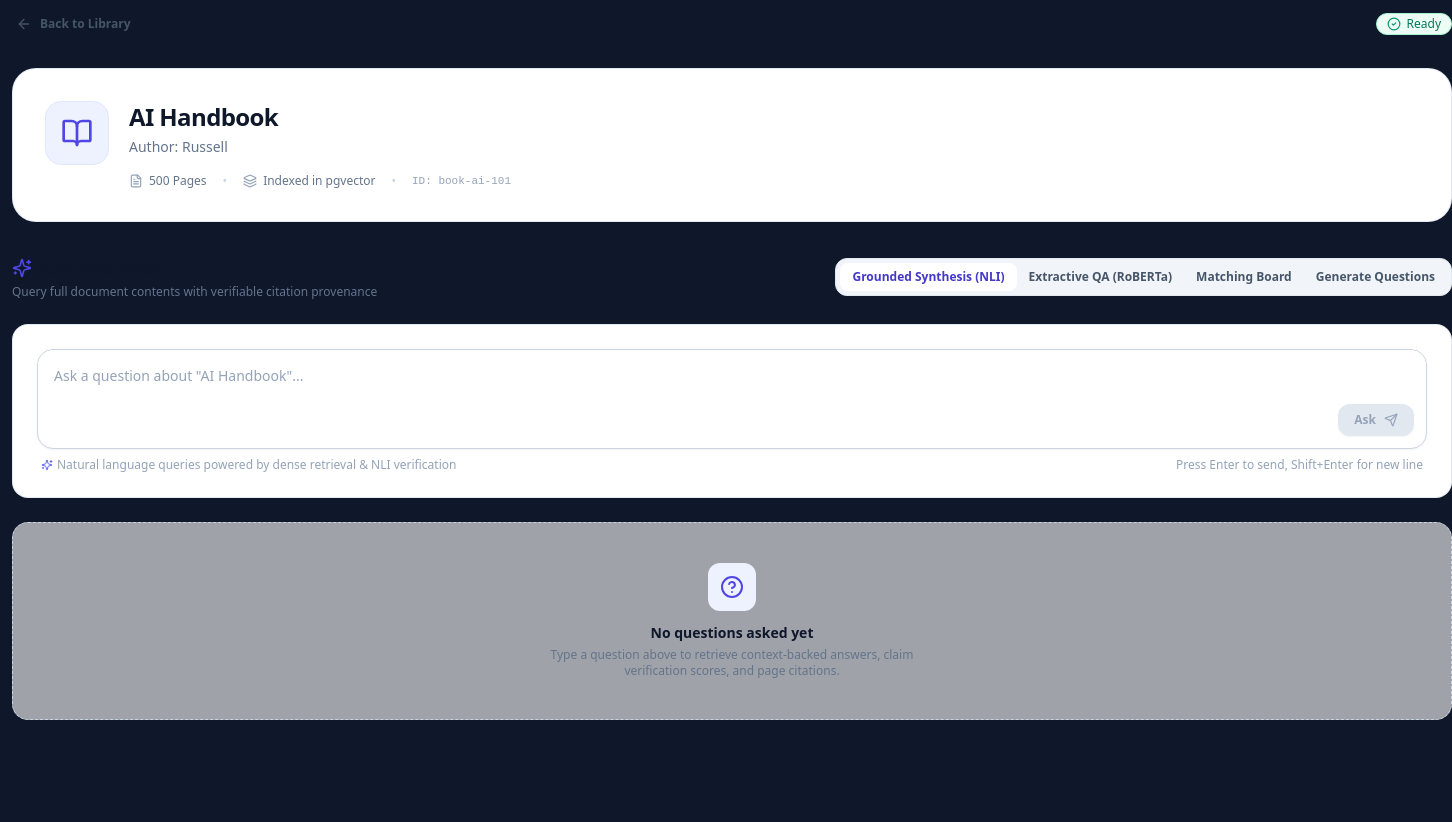
Scenario: Phase 18 — Matching Board & Retrieval Transparency Tests › 16. Standalone Matching Board handles API search error safely in BookDetail
Expected: the heading "AI Handbook" is shown, [129,100,278,133]
Switch to Matching Board mode
Click the button "Matching Board" at (1244, 277), box [1184,263,1304,291]
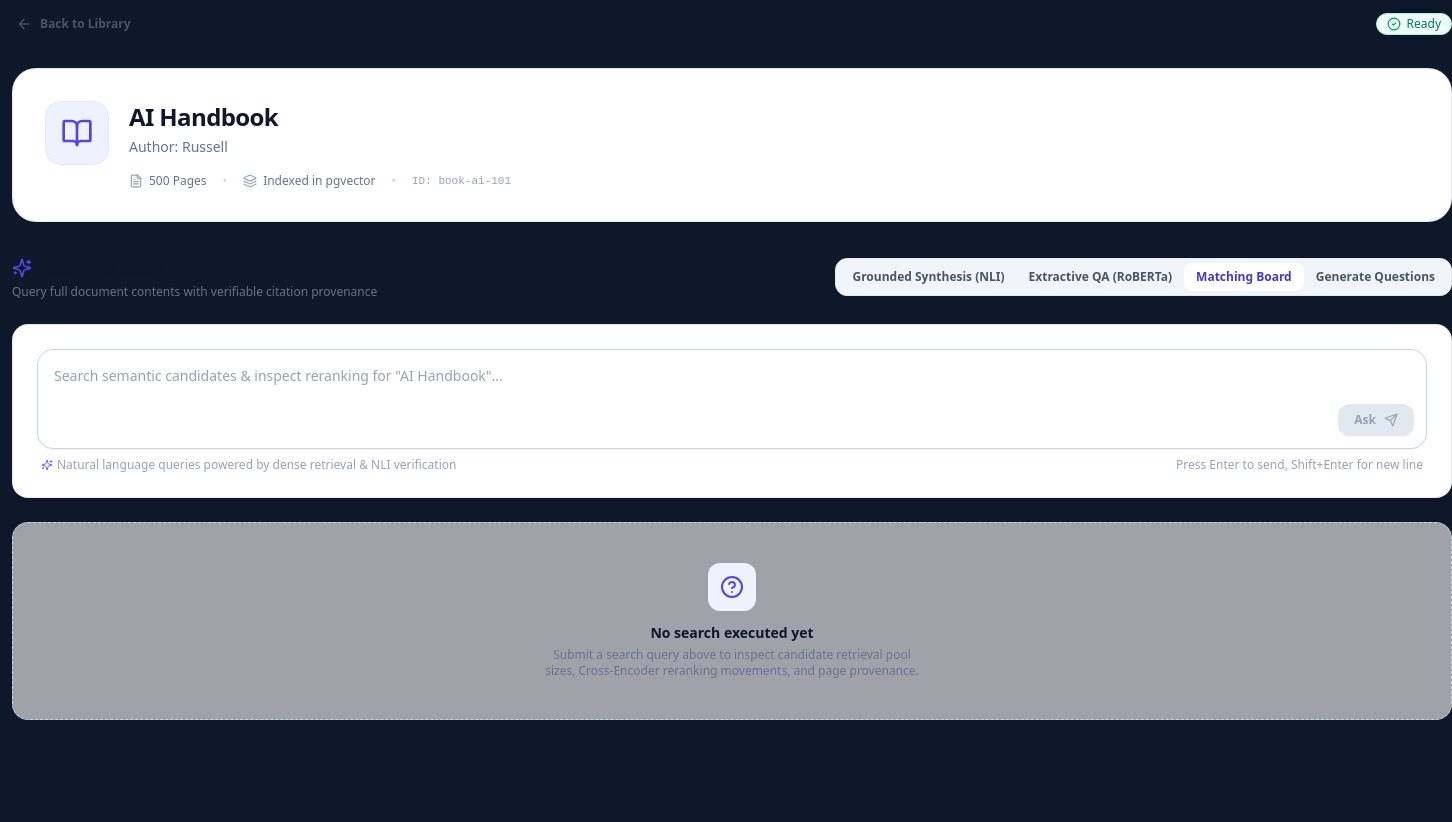
Now the text box with placeholder "Search semantic candidates" is shown
Submit a search query
Replace the text in the text box with placeholder "Search semantic candidates" with "quantum neural networks" at (732, 396), box [38,350,1426,442]
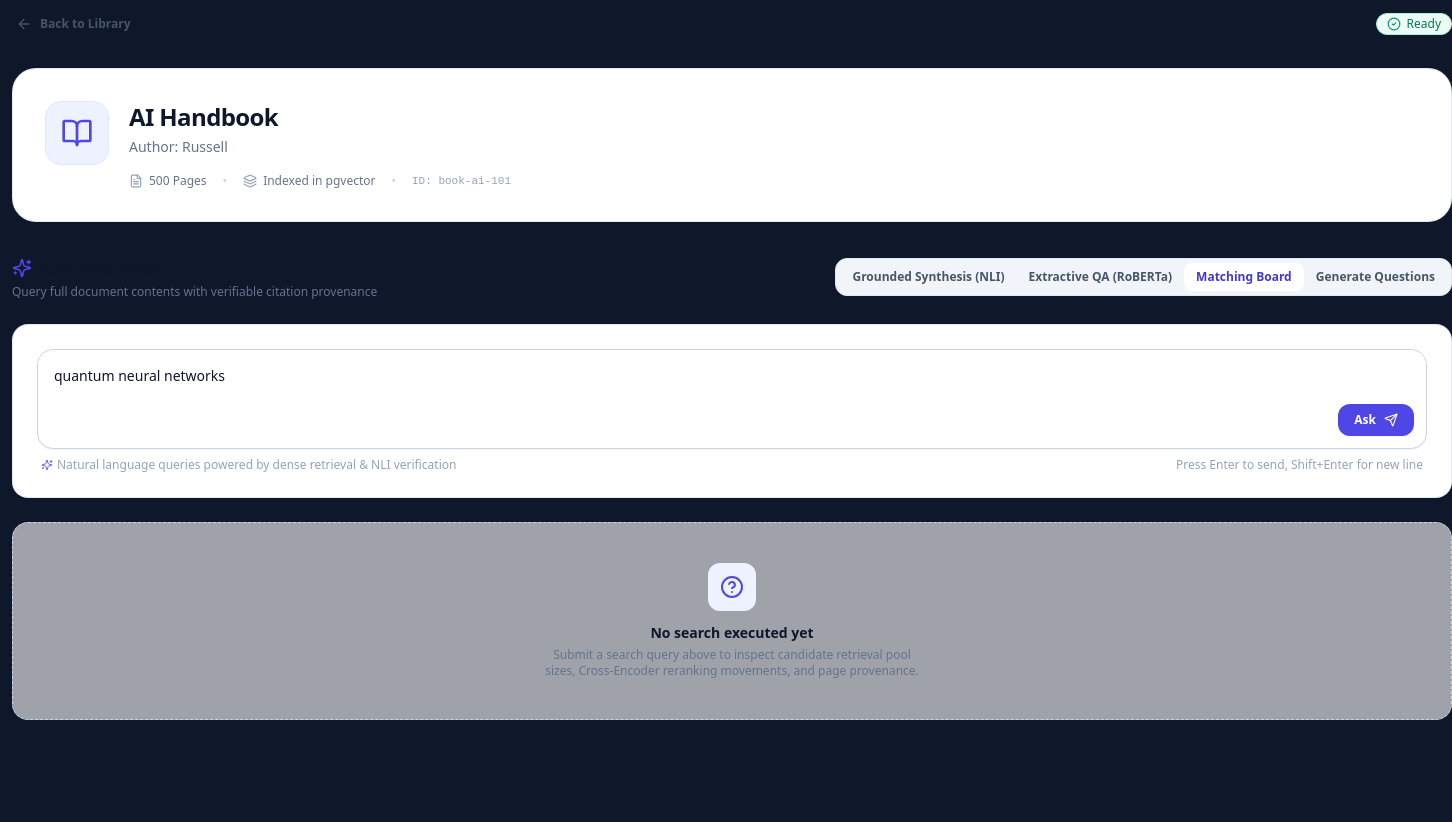
Now the button with aria-label "Ask Question" is enabled
Click the button with aria-label "Ask Question" at (1376, 420), box [1338,404,1414,436]
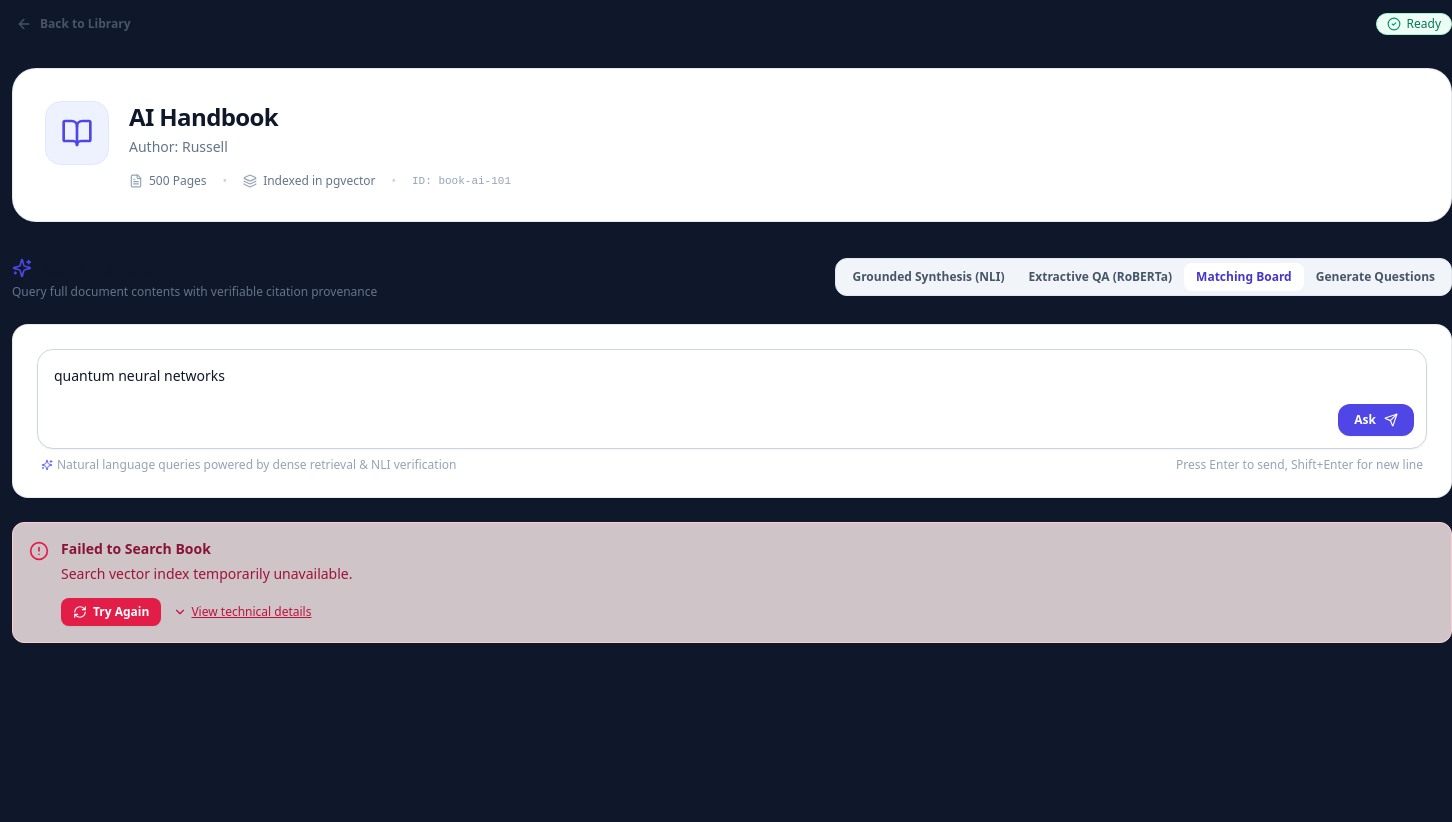
Now the heading "Failed to Search Book" is shown, box [61,539,211,559]
Now the text "Search vector index temporarily unavailable." is shown, box [61,564,352,583]
Expand technical details and verify request ID
Click the button "View technical details" at (242, 612), box [173,604,311,620]
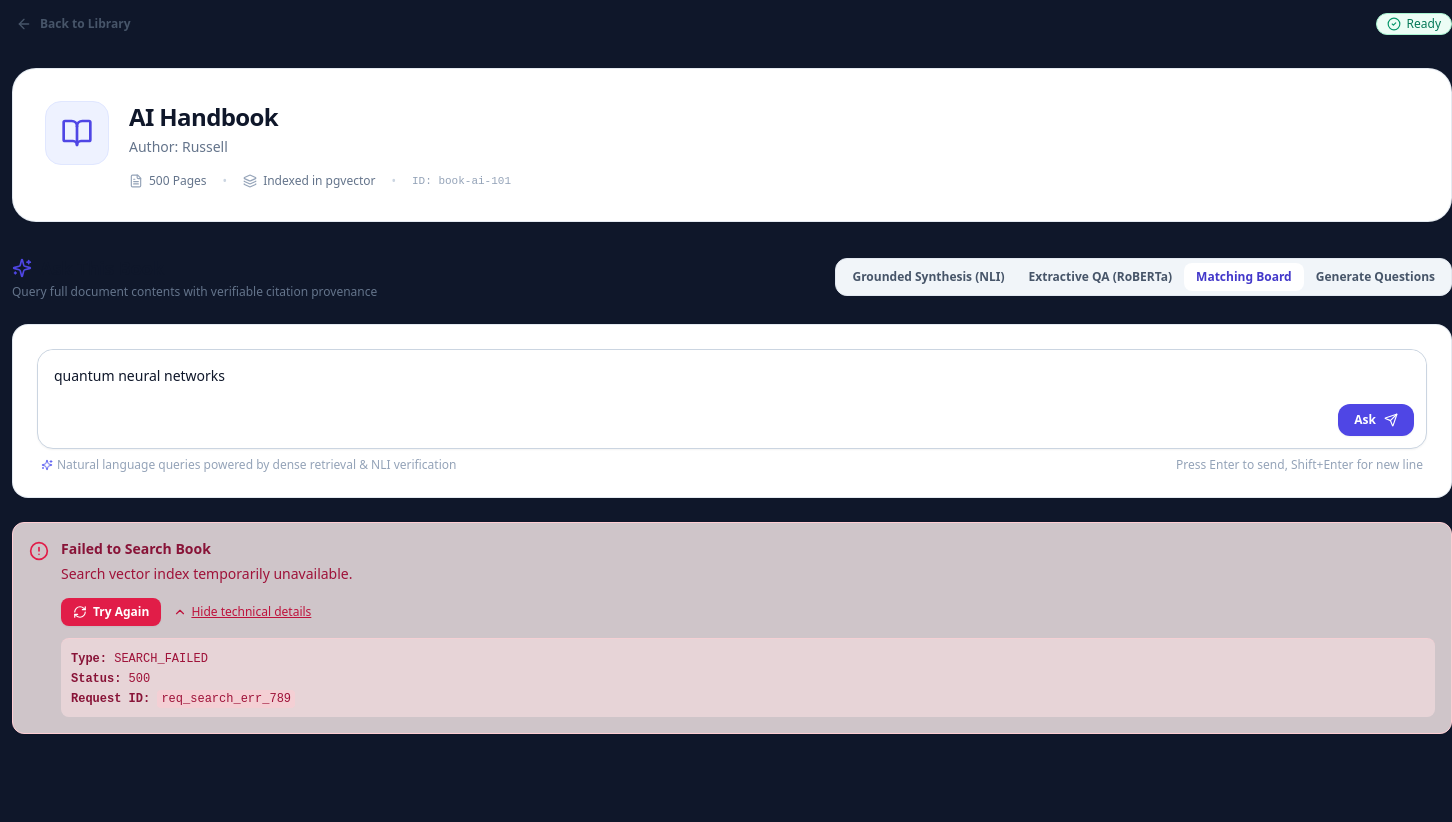
Now the text "req_search_err_789" is shown, box [157,690,295,708]
